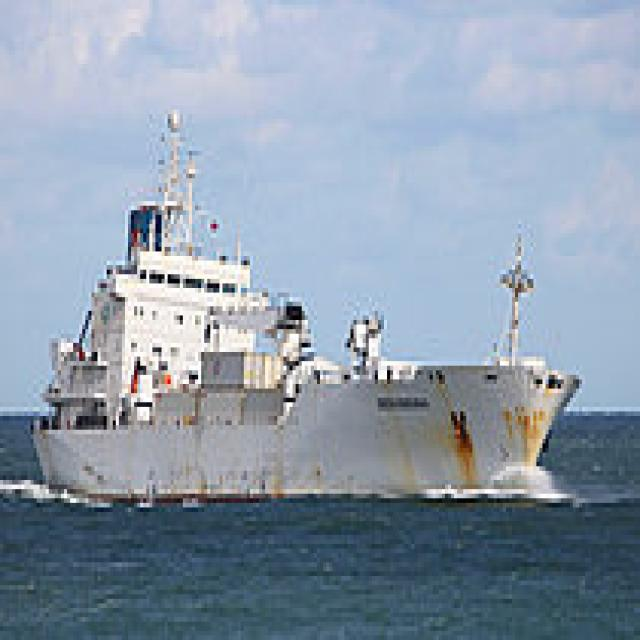Cargo: (21, 96, 582, 503)
